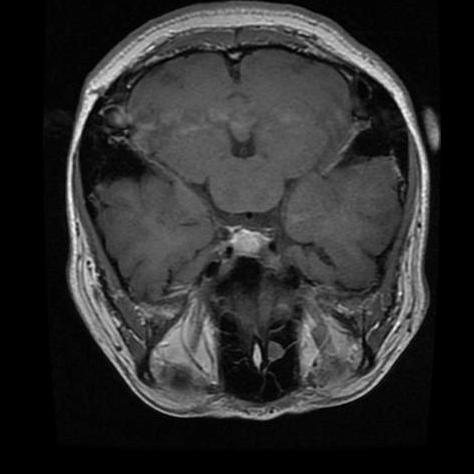Tumour-Pituitary: (224, 224, 283, 260)
